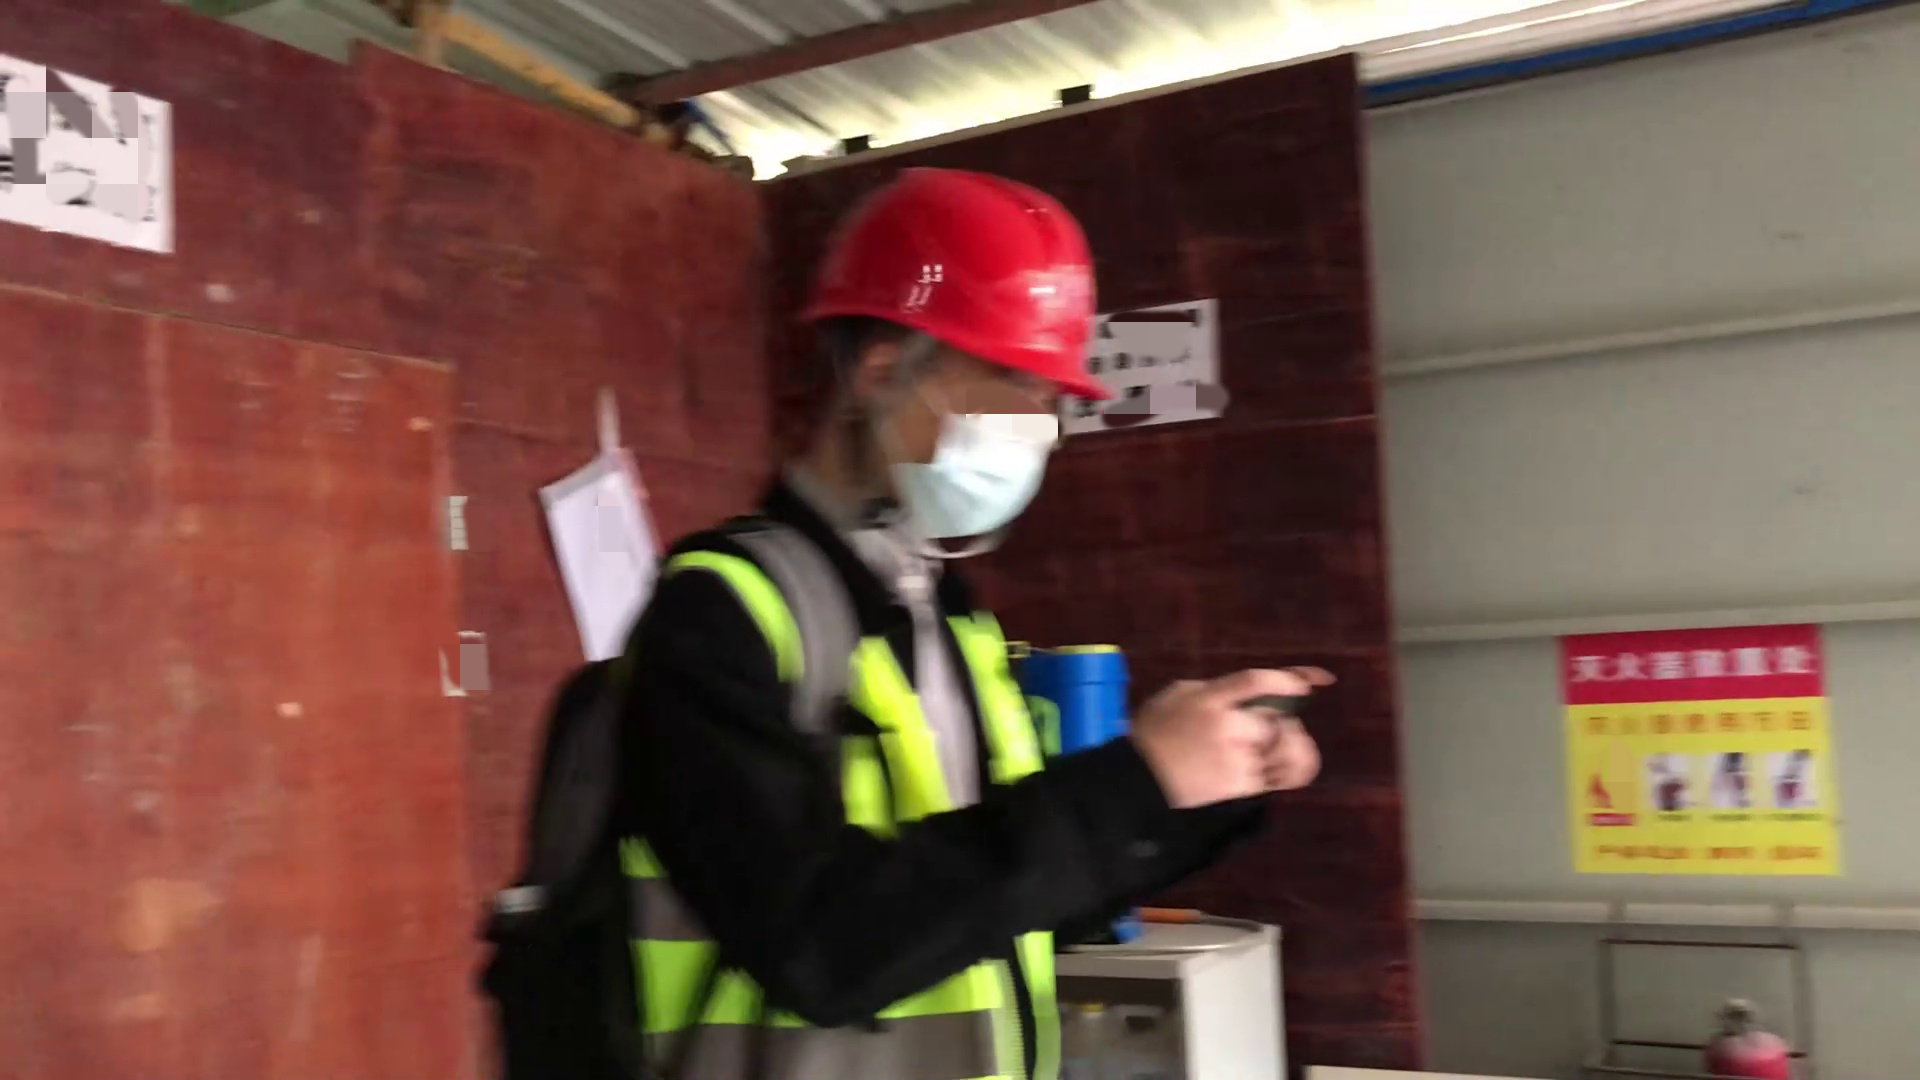helmet: (788, 163, 1122, 410)
person: (453, 159, 1342, 1080)
vest: (638, 529, 1070, 1080)
